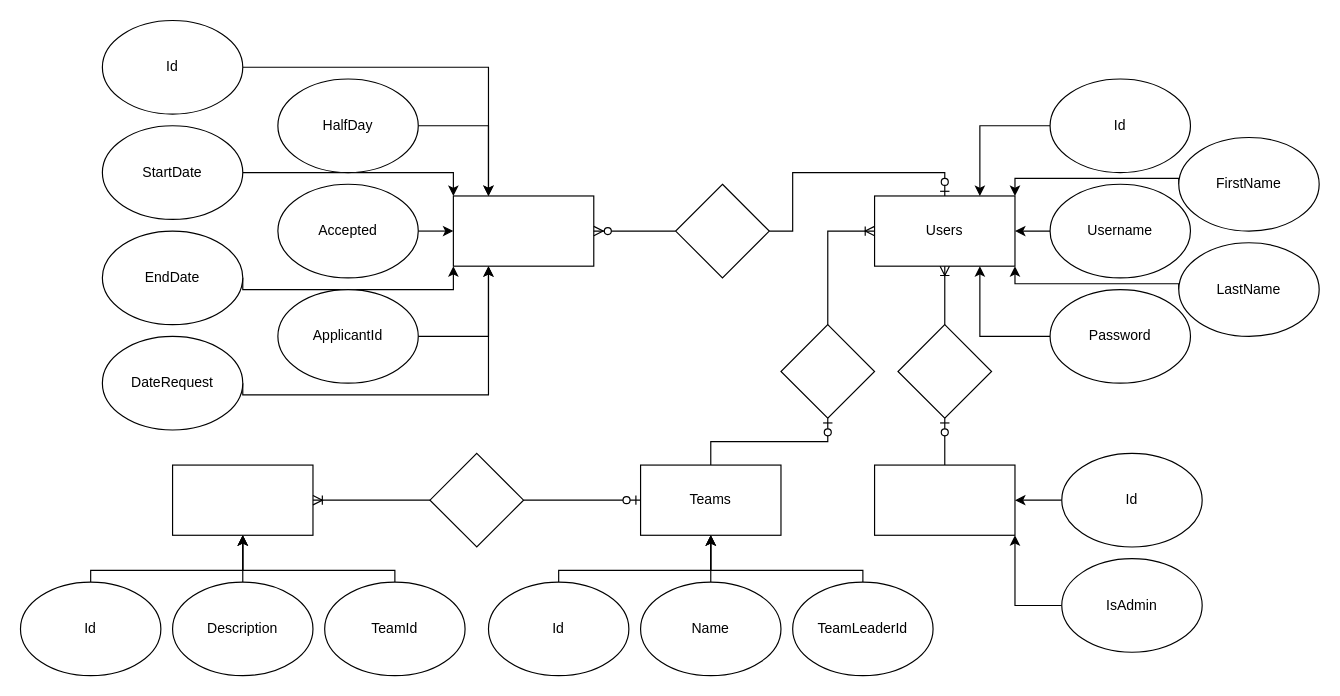
The diagram is 1340 pixels wide and 696 high, and some of its shapes have lost their labels. Each missing label, with the centre of its shape:
has: point (944, 371)
IsIn: point (827, 371)
Projects: point (242, 499)
Roles: point (944, 499)
Uses: point (722, 230)
Vacantion: point (523, 230)
WorkOn: point (476, 499)
